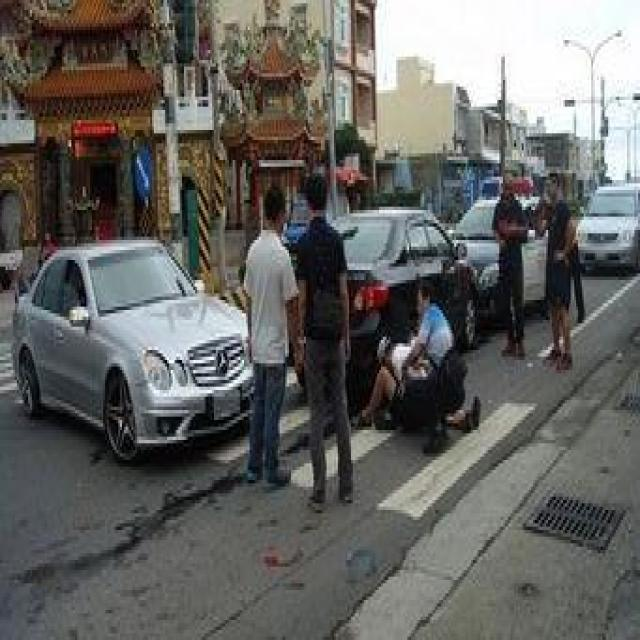fall: (356, 330, 478, 440)
nonfall: (301, 169, 357, 513), (239, 183, 298, 482), (536, 169, 574, 373), (492, 172, 530, 360)
